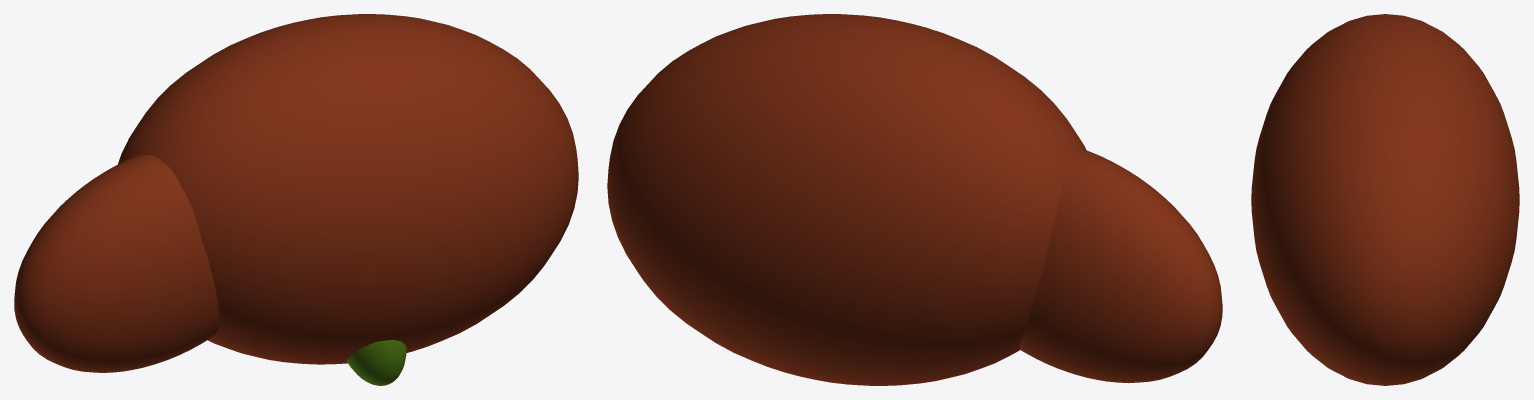
Rendered from liver_gallbladder.glb.
3 views of the same model, side by side, from view 1: azimuth 30°, elevation 25°; view 2: azimuth 150°, elevation 25°; view 3: azimuth 270°, elevation 25° (orthographic). The views are drawn at different scales.
Visible parts, largest first — view 1: RightLobe, LeftLobe, Gallbladder; view 2: RightLobe, LeftLobe; view 3: RightLobe.
Boxes of the visible parts, <box> form: RightLobe: <box>118,14,578,364</box>; LeftLobe: <box>14,155,219,372</box>; Gallbladder: <box>347,339,406,385</box>; RightLobe: <box>607,14,1086,385</box>; LeftLobe: <box>1019,148,1222,383</box>; RightLobe: <box>1251,14,1519,385</box>.
Bounding box in the file's own units: 4.21 × 2.39 × 1.95.
